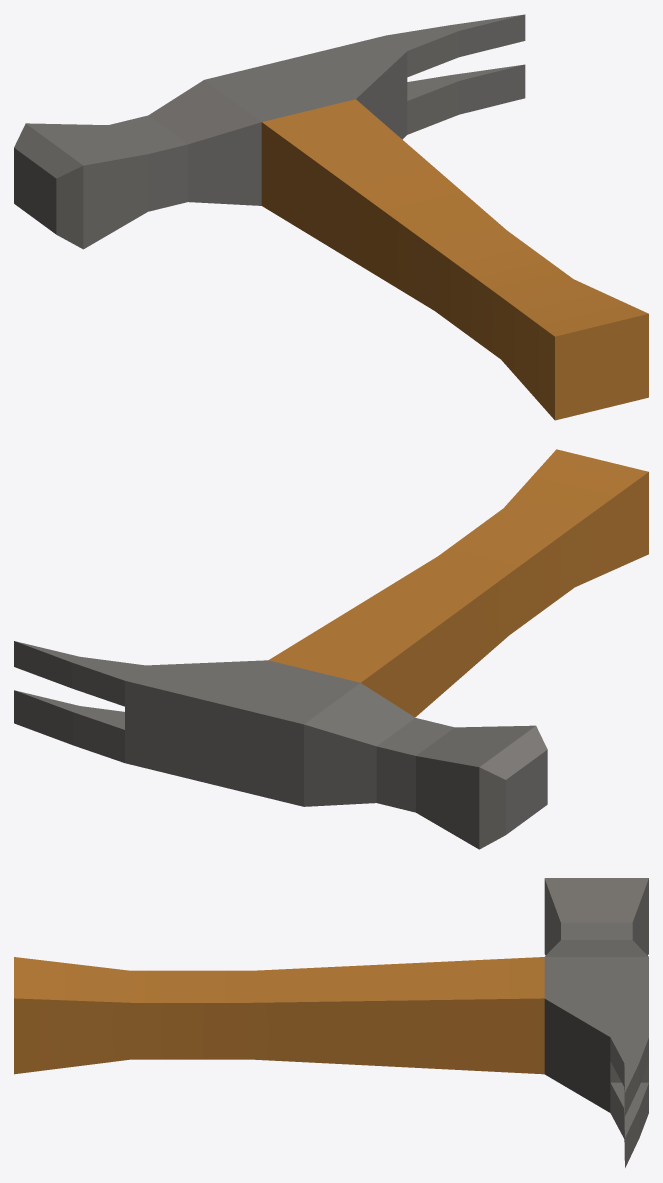
File: SM_Hammer.FBX
The picture shows the model from 3 angles, top to bottom: view 1: azimuth 30°, elevation 25°; view 2: azimuth 150°, elevation 25°; view 3: azimuth 270°, elevation 25°; orthographic projection. The views are drawn at different scales.
Visible parts, largest first — view 1: hammer; view 2: hammer; view 3: hammer.
Part boxes in pixels (left/top/right/bottom): hammer: left=14, top=14, right=648, bottom=420; hammer: left=14, top=449, right=648, bottom=849; hammer: left=14, top=878, right=648, bottom=1167.
Bounding box in the file's own units: 14.13 × 2.24 × 16.98.
